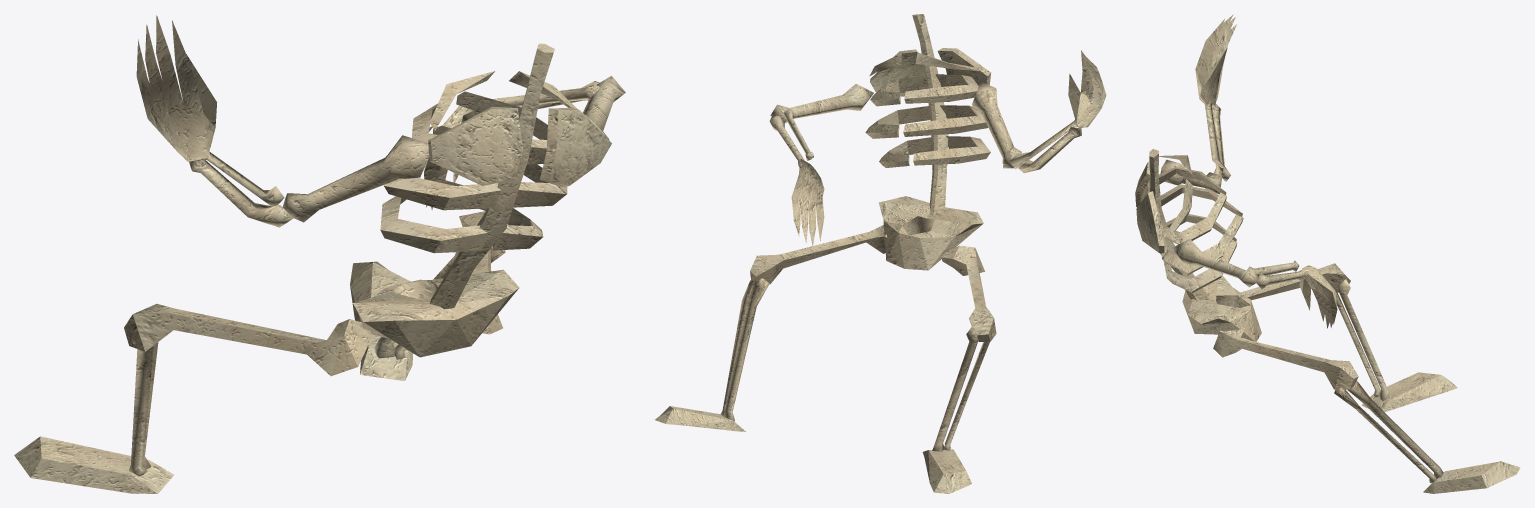
Rendered from Skeleton02.FBX.
The picture shows the model from 3 angles, left to right: view 1: azimuth 30°, elevation 25°; view 2: azimuth 150°, elevation 25°; view 3: azimuth 270°, elevation 25°; orthographic projection. The views are drawn at different scales.
Parts seen in each view (by area): view 1: Skeleton02; view 2: Skeleton02; view 3: Skeleton02.
Boxes of the visible parts, x1=… form: Skeleton02: x1=14, y1=15, x2=625, y2=493; Skeleton02: x1=655, y1=14, x2=1106, y2=493; Skeleton02: x1=1135, y1=14, x2=1520, y2=493.
Bounding box in the file's own units: 4412 × 4909 × 4757.
